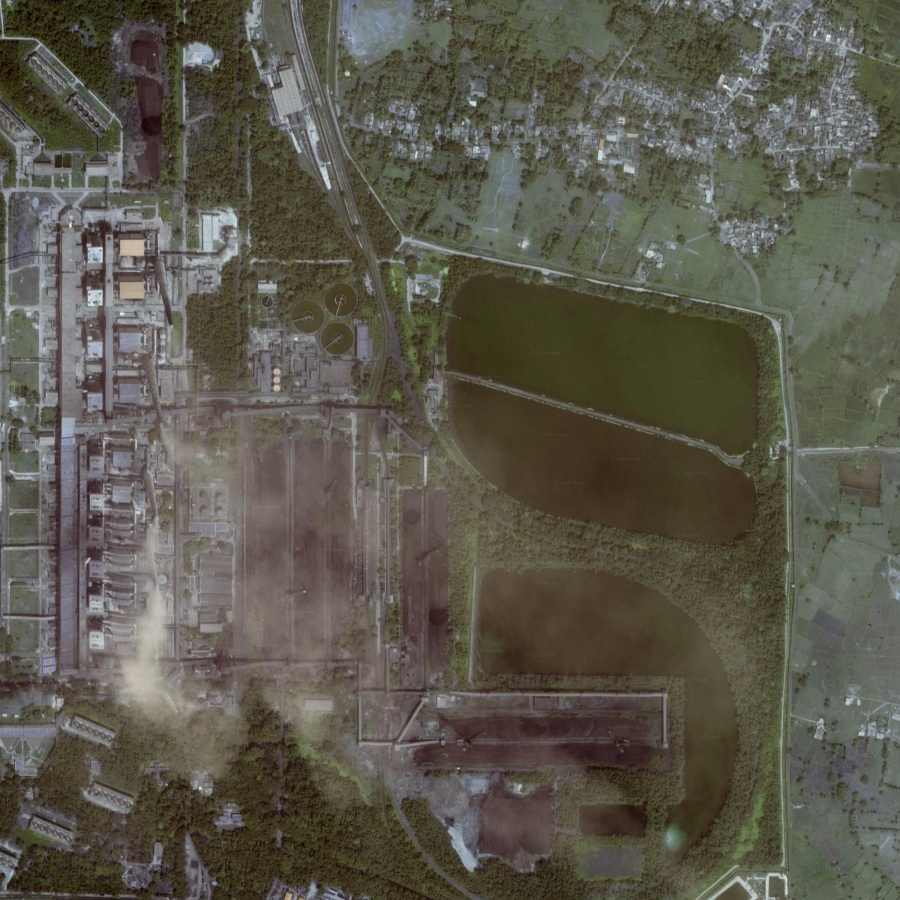PowerPlant: (130, 408, 460, 729), (394, 691, 678, 877)
